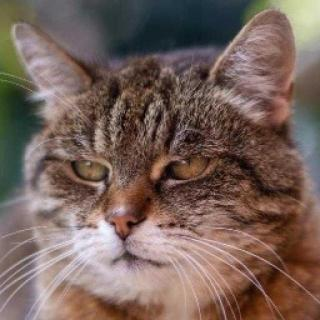cat: (12, 15, 305, 287)
nose: (98, 193, 146, 240)
